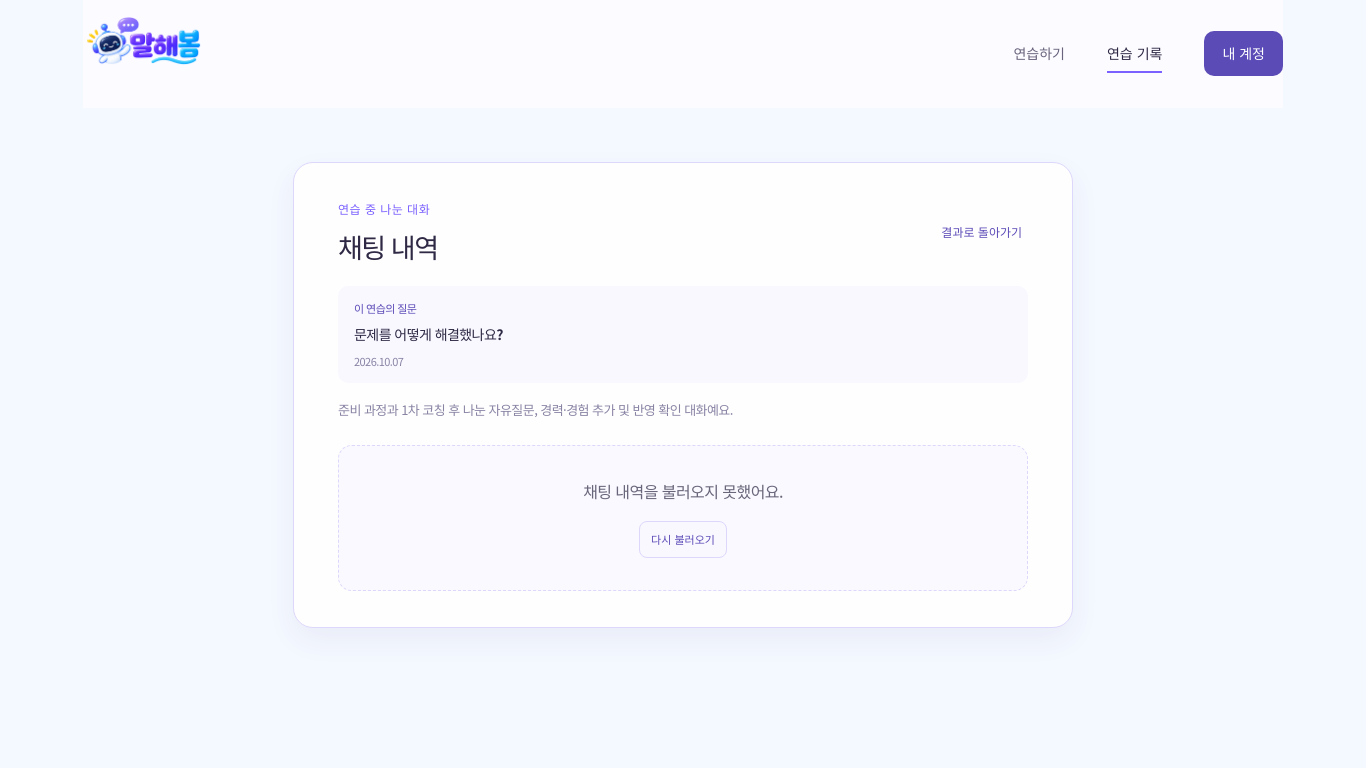
Test: 채팅 내역 › 조회 실패를 빈 기록으로 표시하지 않고 재시도한다
The image size is (1366, 768).
Expected: the message "채팅 내역을 불러오지 못했어요. 다시 불러오기" is shown, x1=338 y1=445 x2=1028 y2=591
Step 1. Click the button "다시 불러오기" → (683, 540), box x1=639 y1=521 x2=727 y2=558
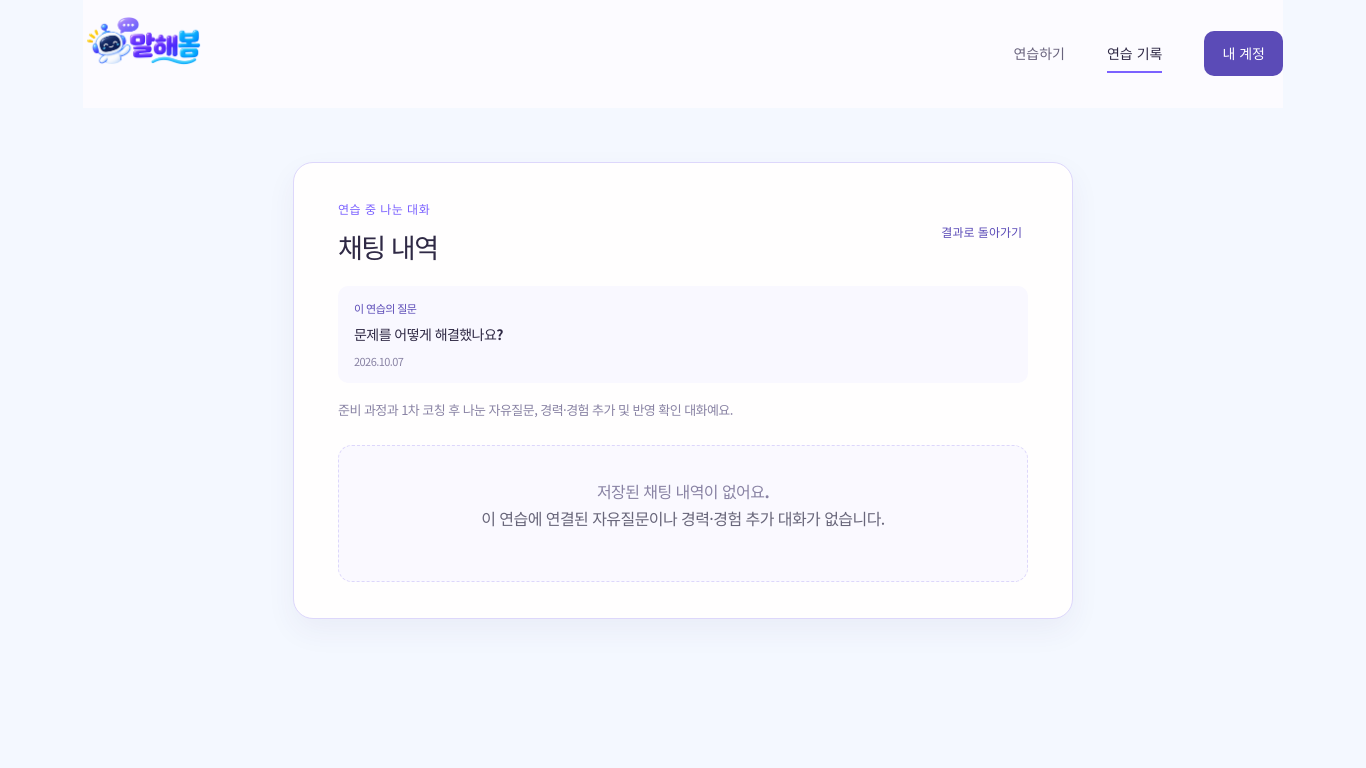
Expected: the text "저장된 채팅 내역이 없어요." is shown, x1=597 y1=479 x2=769 y2=503
